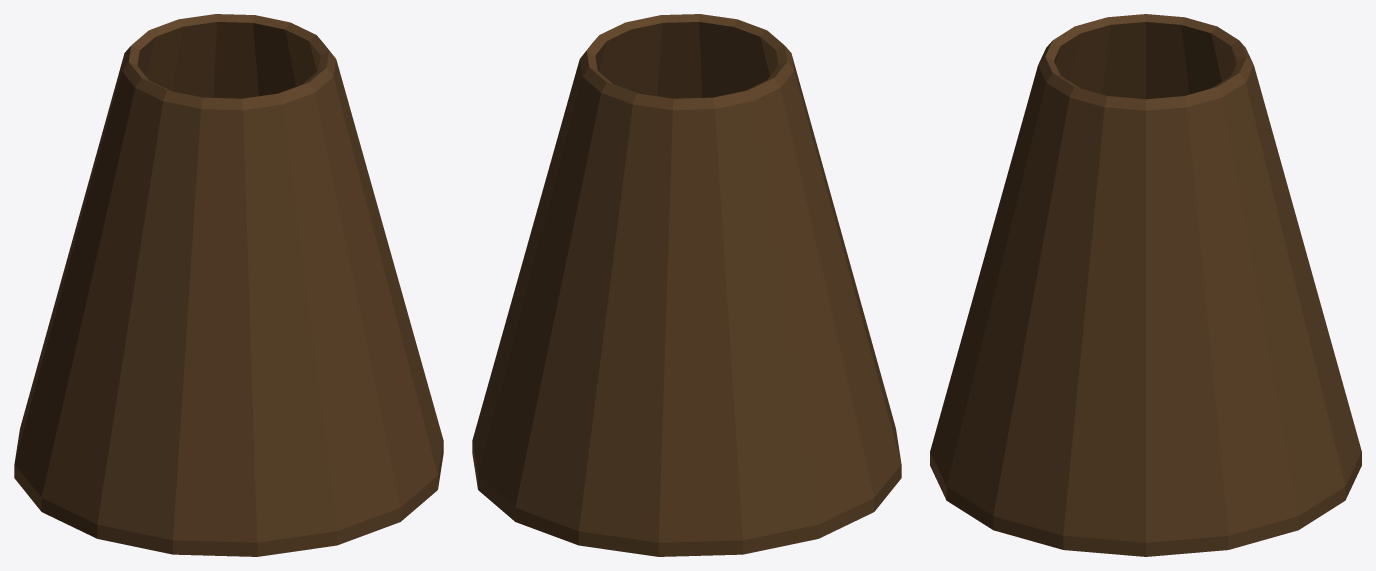
Rendered from retained_supply_raw.glb.
The picture shows the model from 3 angles, left to right: view 1: azimuth 30°, elevation 25°; view 2: azimuth 150°, elevation 25°; view 3: azimuth 270°, elevation 25°; orthographic projection.
Parts seen in each view (by area): view 1: RetainedActivityVisual_supply; view 2: RetainedActivityVisual_supply; view 3: RetainedActivityVisual_supply.
Part boxes in pixels (box(x1,y1,x2,y2)): RetainedActivityVisual_supply: box(14, 14, 443, 556); RetainedActivityVisual_supply: box(472, 14, 901, 556); RetainedActivityVisual_supply: box(930, 14, 1361, 556).
Size of the model in its own units: 0.22 by 0.23 by 0.22.
